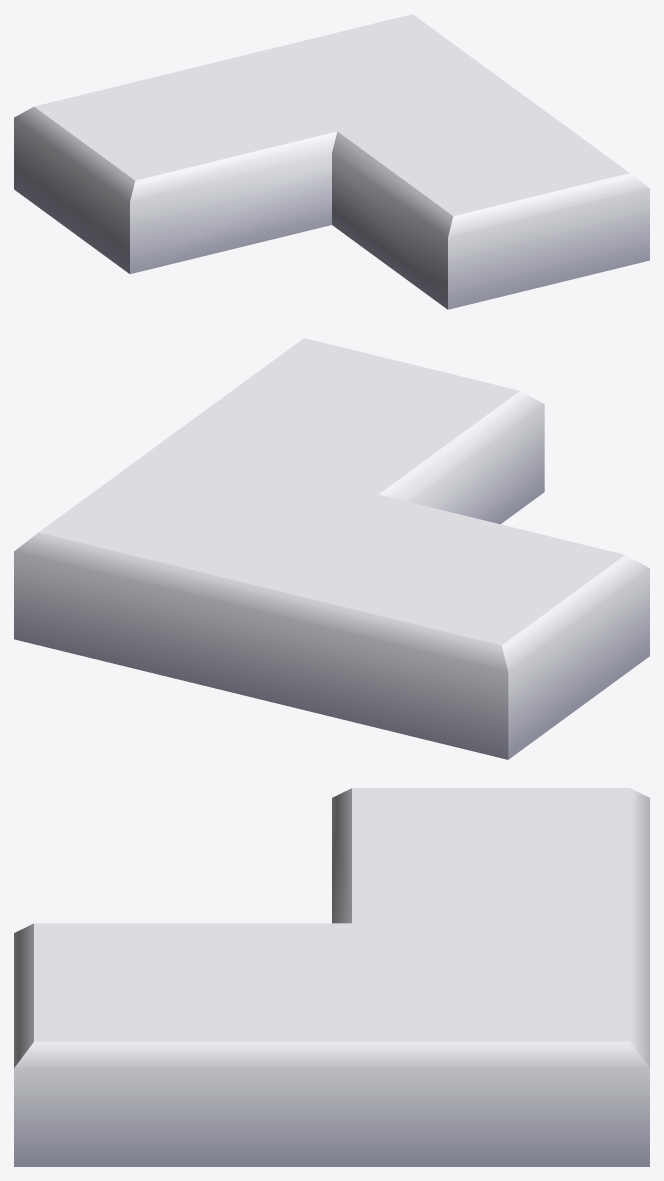
Rendered from none-hq-plate-corner.glb.
3 renders of one model, top to bottom at view 1: azimuth 30°, elevation 25°; view 2: azimuth 150°, elevation 25°; view 3: azimuth 270°, elevation 25°, orthographic. The views are drawn at different scales.
Visible parts, largest first — view 1: none-hq-plate-corner; view 2: none-hq-plate-corner; view 3: none-hq-plate-corner.
Boxes of the visible parts, bbox=[...] form: none-hq-plate-corner: bbox=[14, 14, 649, 309]; none-hq-plate-corner: bbox=[14, 338, 649, 759]; none-hq-plate-corner: bbox=[14, 788, 649, 1166].
Size of the model in its own units: 0.159 by 0.032 by 0.158.
1 material, 1 textured.
